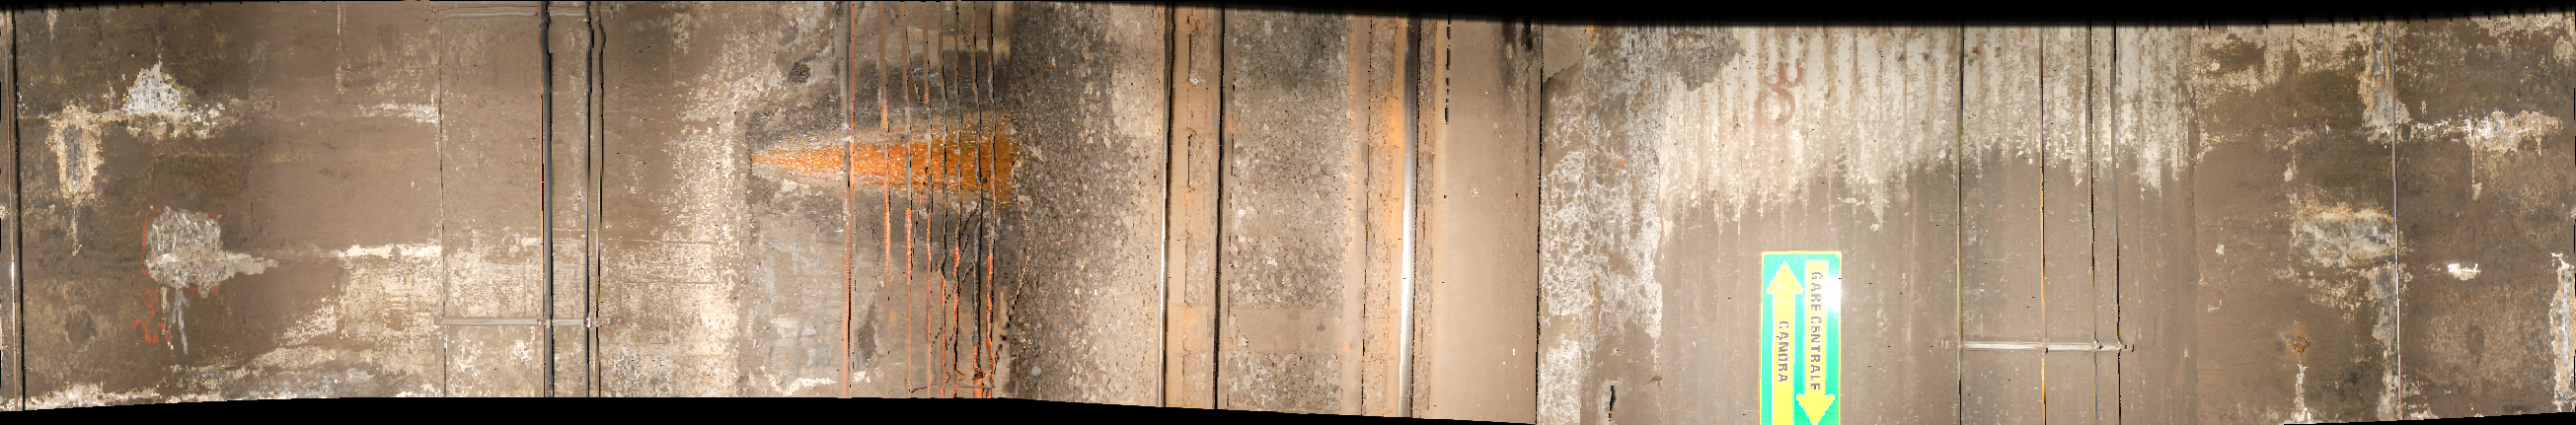pipes: (830, 3, 1020, 425), (1943, 28, 2114, 425), (529, 3, 611, 418), (2367, 18, 2423, 425)
sign: (1761, 248, 1845, 425)
tracks: (1155, 7, 1539, 425)
